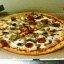pizza: (3, 12, 62, 55)
